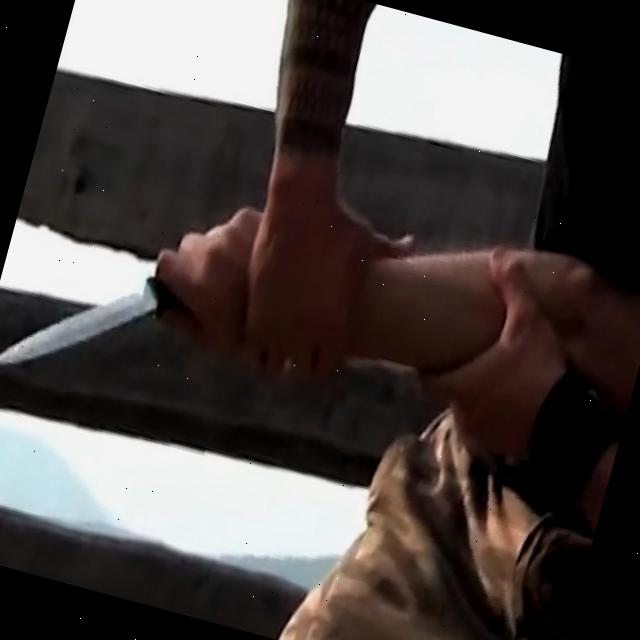suspicion: (0, 109, 640, 534), (0, 239, 170, 409)
